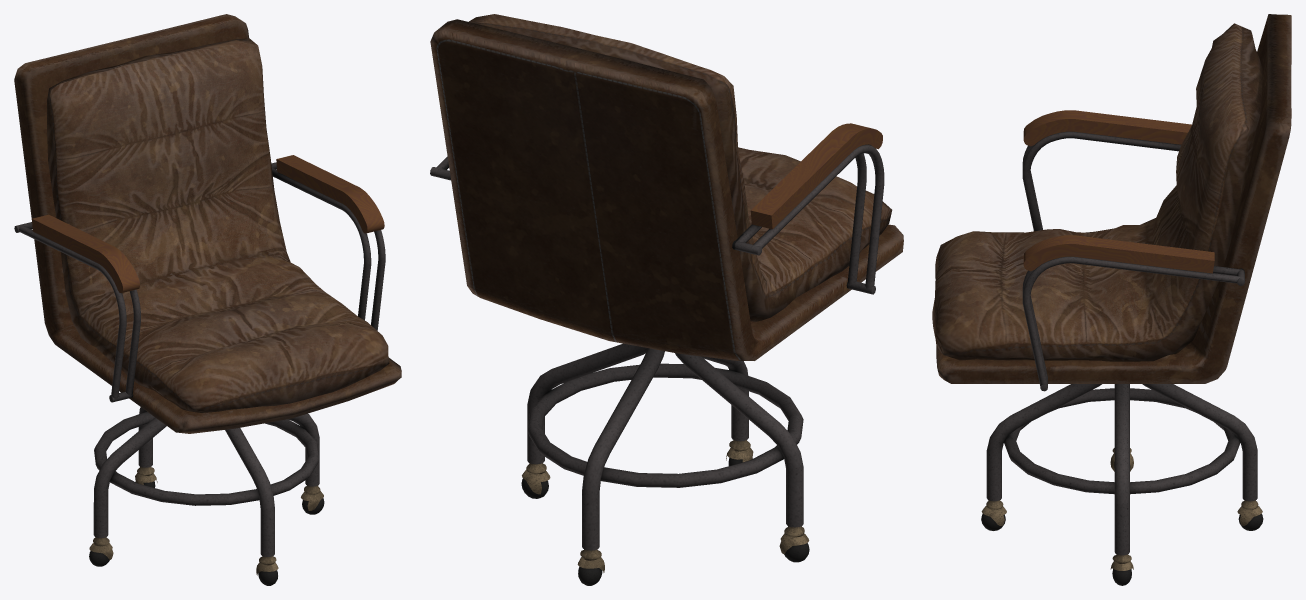
File: wrinkly_chair.glb
3 views of the same model, side by side, from view 1: azimuth 30°, elevation 25°; view 2: azimuth 150°, elevation 25°; view 3: azimuth 270°, elevation 25° (orthographic). The views are drawn at different scales.
Visible parts, largest first — view 1: chairtop, chairbottom; view 2: chairtop, chairbottom; view 3: chairtop, chairbottom.
Part boxes in pixels (x1,y1,x2,y2): chairtop: (14, 14, 401, 433); chairbottom: (89, 407, 324, 585); chairtop: (430, 14, 903, 360); chairbottom: (521, 343, 809, 585); chairtop: (932, 14, 1291, 391); chairbottom: (981, 384, 1263, 585).
Bounding box in the file's own units: 0.7327 × 1.15 × 0.8075.
Materials: 1 (1 with a texture image).
